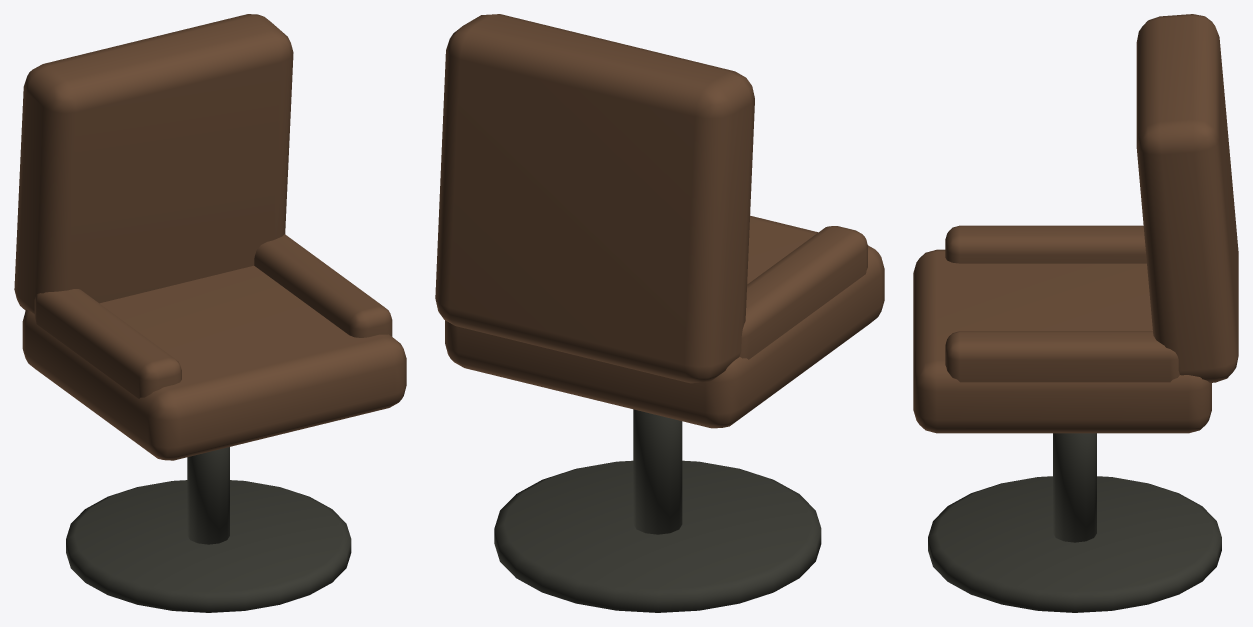
The model's file is chair.glb.
3 views of the same model, side by side, from view 1: azimuth 30°, elevation 25°; view 2: azimuth 150°, elevation 25°; view 3: azimuth 270°, elevation 25° (orthographic). The views are drawn at different scales.
Parts seen in each view (by area): view 1: chair_back, chair_seat, chair_base, chair_seat_edge_-1, chair_seat_edge_1, chair_column; view 2: chair_back, chair_base, chair_seat, chair_seat_edge_-1, chair_column; view 3: chair_seat, chair_back, chair_base, chair_seat_edge_1, chair_seat_edge_-1, chair_column.
Part boxes in pixels (left/top/right/bottom): chair_back: left=14, top=14, right=293, bottom=313; chair_seat: left=22, top=265, right=406, bottom=460; chair_base: left=66, top=480, right=351, bottom=612; chair_seat_edge_-1: left=34, top=289, right=181, bottom=398; chair_seat_edge_1: left=254, top=234, right=392, bottom=337; chair_column: left=187, top=447, right=229, bottom=544; chair_back: left=435, top=14, right=754, bottom=383; chair_base: left=494, top=460, right=821, bottom=612; chair_seat: left=445, top=215, right=884, bottom=428; chair_seat_edge_-1: left=739, top=226, right=867, bottom=359; chair_column: left=633, top=409, right=682, bottom=534; chair_seat: left=913, top=249, right=1211, bottom=433; chair_back: left=1136, top=14, right=1238, bottom=382; chair_base: left=928, top=476, right=1221, bottom=612; chair_seat_edge_1: left=945, top=331, right=1179, bottom=382; chair_seat_edge_-1: left=945, top=225, right=1146, bottom=263; chair_column: left=1053, top=433, right=1096, bottom=542.
Bounding box in the file's own units: 0.62 × 1.1 × 0.6642.
